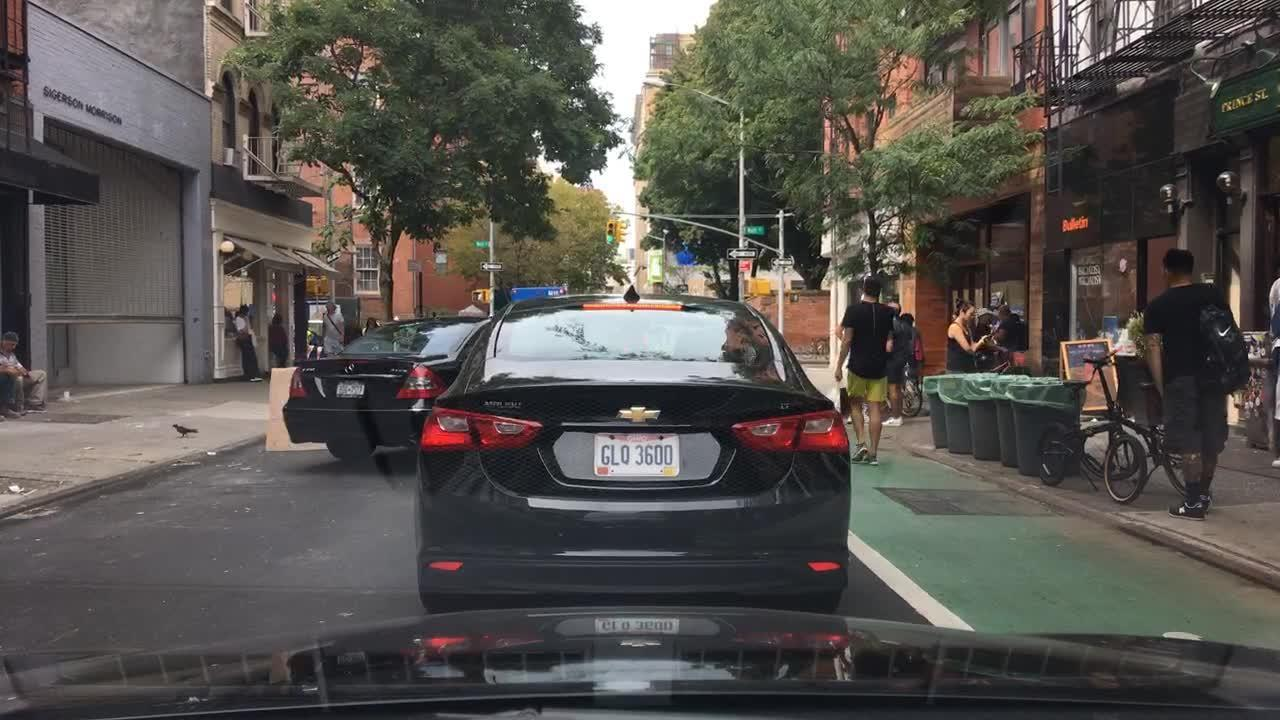Mercedes: (338, 359, 364, 379)
chevrolet: (602, 401, 670, 428)
